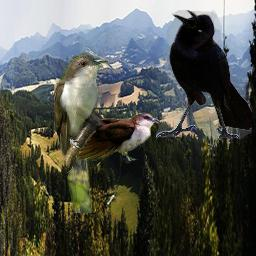Crow: (156, 10, 252, 140)
Cuckoo: (54, 49, 109, 213), (76, 80, 162, 164)
